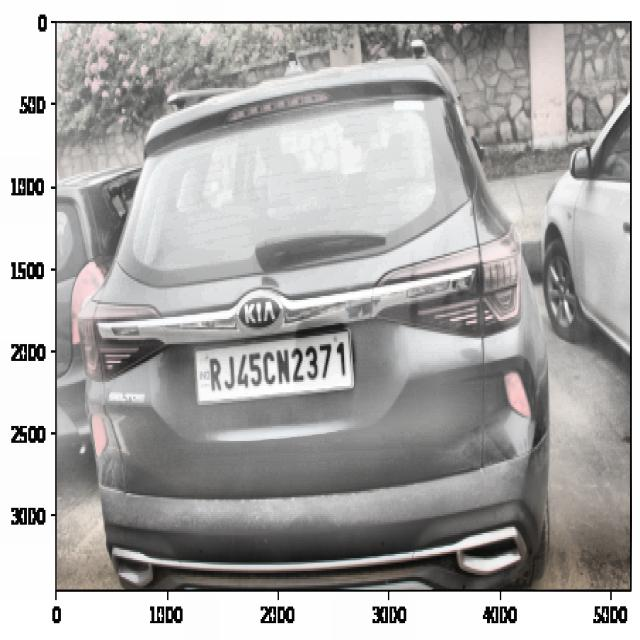license_plate: (201, 338, 350, 394)
